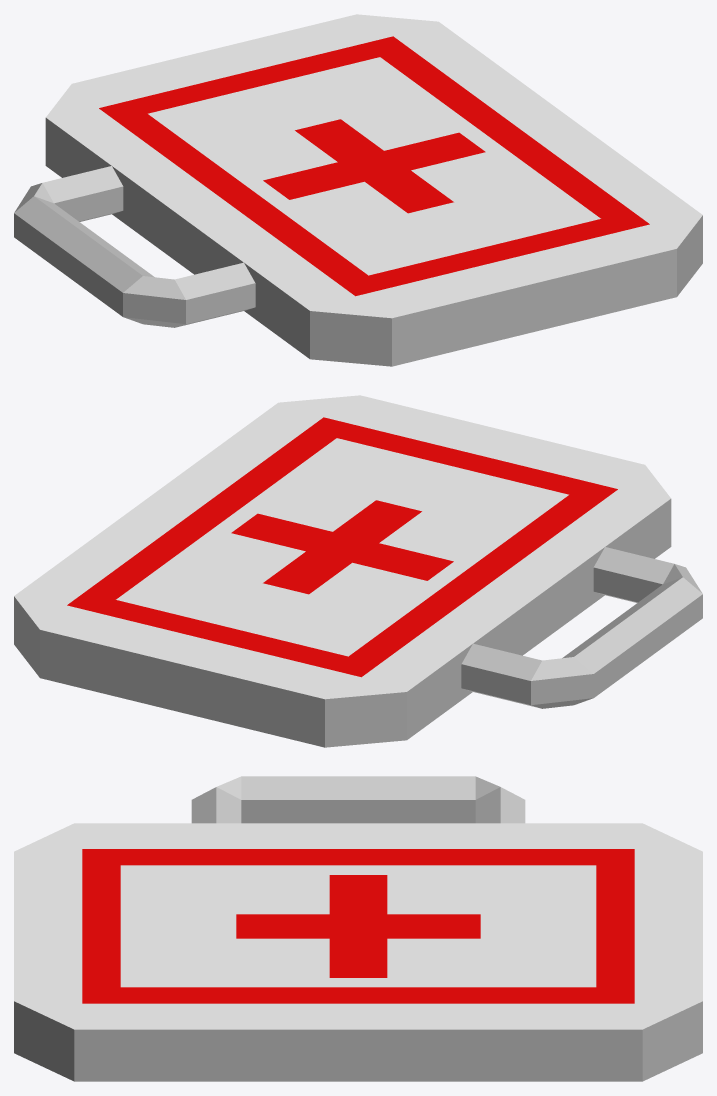
The model's file is MedKit.fbx.
The picture shows the model from 3 angles, top to bottom: view 1: azimuth 30°, elevation 25°; view 2: azimuth 150°, elevation 25°; view 3: azimuth 270°, elevation 25°; orthographic projection. The views are drawn at different scales.
Parts seen in each view (by area): view 1: MedKit; view 2: MedKit; view 3: MedKit.
Boxes of the visible parts, bbox=[...] form: MedKit: bbox=[14, 14, 702, 366]; MedKit: bbox=[14, 395, 702, 747]; MedKit: bbox=[14, 776, 702, 1081].
Size of the model in its own units: 0.2173 by 0.02 by 0.24.
